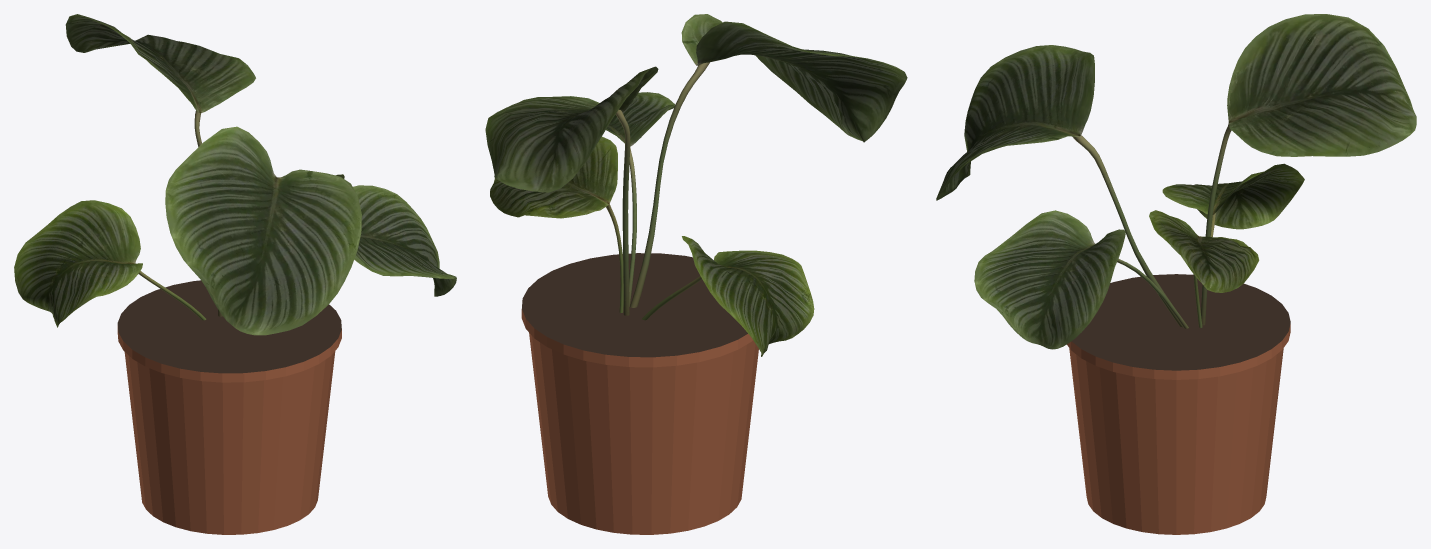
3 renders of one model, left to right at view 1: azimuth 30°, elevation 25°; view 2: azimuth 150°, elevation 25°; view 3: azimuth 270°, elevation 25°, orthographic. The views are drawn at different scales.
Visible parts, largest first — view 1: calathea_orbifolia_01_b, pot; view 2: pot, calathea_orbifolia_01_b; view 3: calathea_orbifolia_01_b, pot.
Boxes of the visible parts, left/top/right/bottom form: calathea_orbifolia_01_b: left=14, top=14, right=456, bottom=335; pot: left=117, top=280, right=341, bottom=534; pot: left=521, top=253, right=758, bottom=534; calathea_orbifolia_01_b: left=485, top=14, right=907, bottom=356; calathea_orbifolia_01_b: left=936, top=14, right=1416, bottom=349; pot: left=1067, top=274, right=1290, bottom=534.
Bounding box in the file's own units: 0.2953 × 0.3877 × 0.3742.
3 materials, 1 textured.
